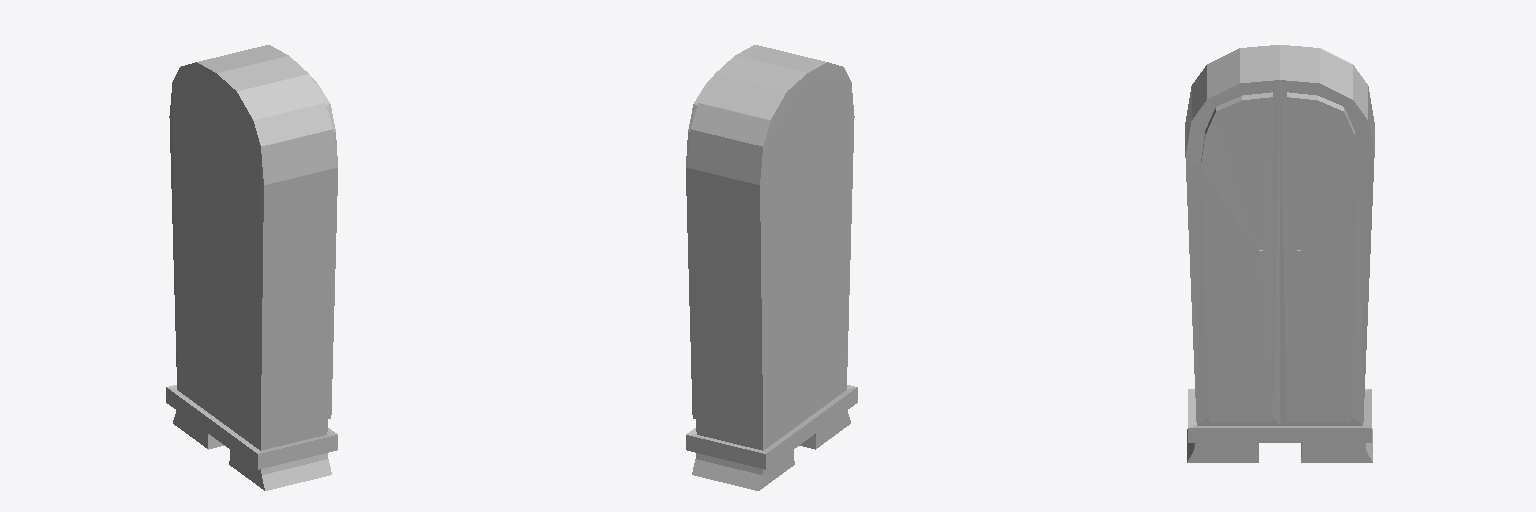
File: Closet.obj
3 renders of one model, left to right at view 1: azimuth 30°, elevation 25°; view 2: azimuth 150°, elevation 25°; view 3: azimuth 270°, elevation 25°, orthographic.
Parts seen in each view (by area): view 1: Closet1; view 2: Closet1; view 3: Closet1.
Part boxes in pixels (x1,y1,x2,y2): Closet1: (166,45,337,490); Closet1: (686,45,857,490); Closet1: (1185,45,1374,462).
Size of the model in its own units: 0.3533 by 1.48 by 0.6605.